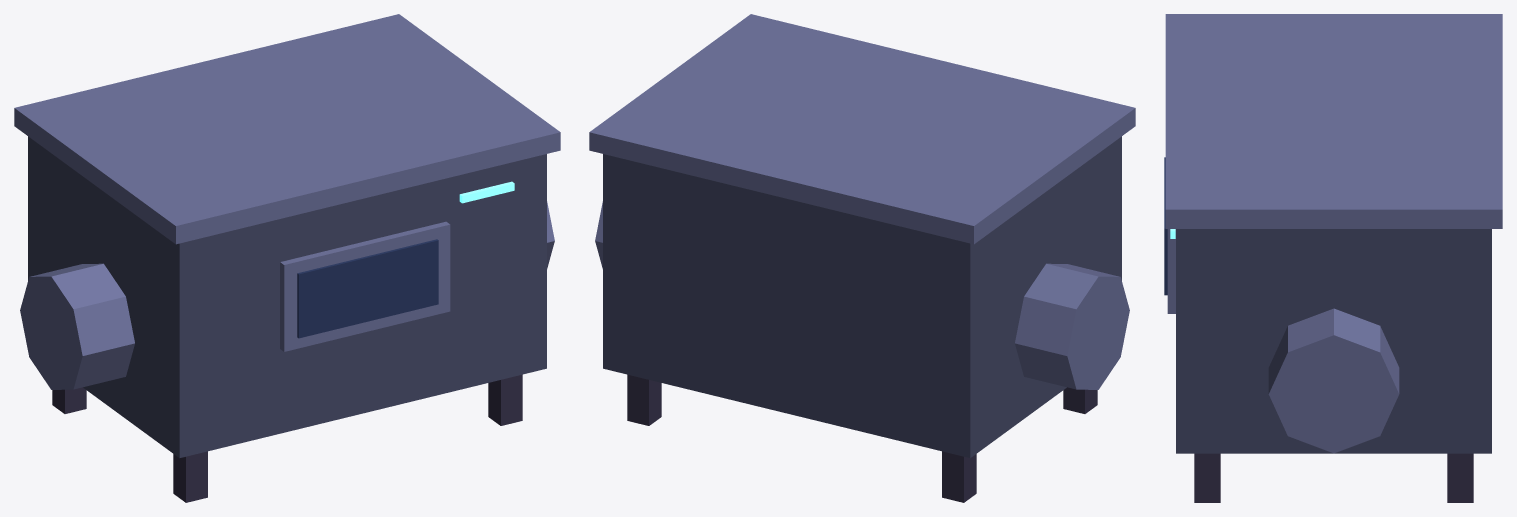
File: module.glb
3 renders of one model, left to right at view 1: azimuth 30°, elevation 25°; view 2: azimuth 150°, elevation 25°; view 3: azimuth 270°, elevation 25°, orthographic. The views are drawn at different scales.
Visible parts, largest first — view 1: module; view 2: module; view 3: module.
Boxes of the visible parts, <box> form: module: <box>14,14,560,502</box>; module: <box>589,14,1135,502</box>; module: <box>1164,14,1502,502</box>.
Size of the model in its own units: 5.4 by 3.2 by 3.21.
